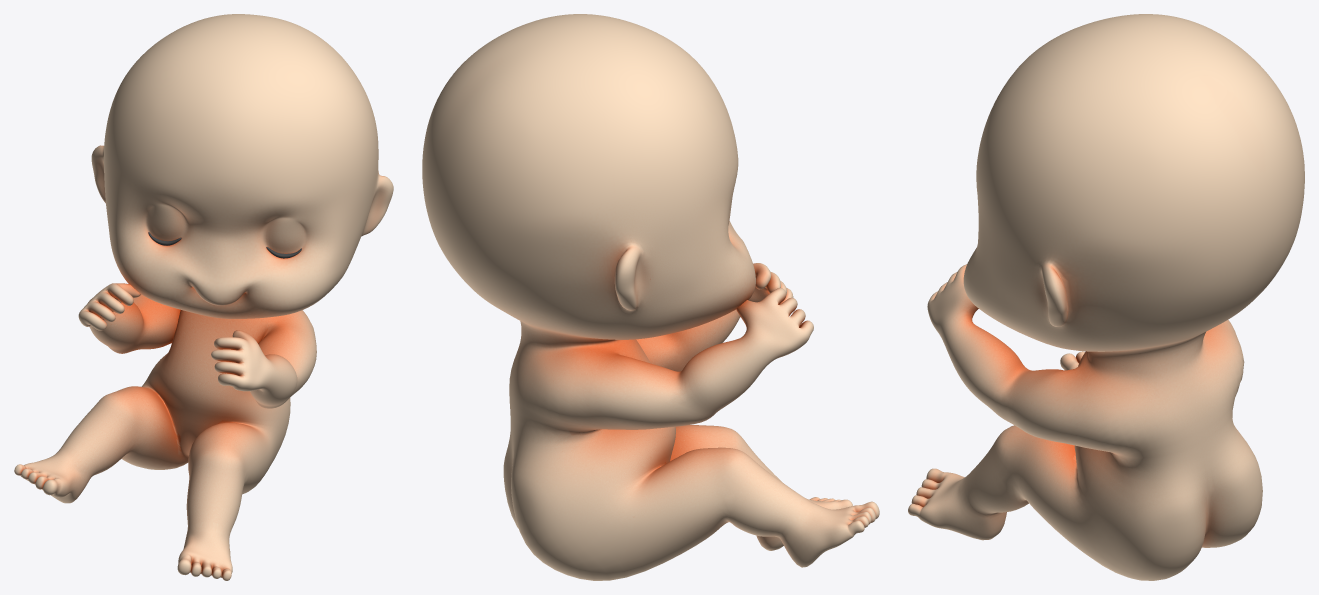
3 views of the same model, side by side, from view 1: azimuth 30°, elevation 25°; view 2: azimuth 150°, elevation 25°; view 3: azimuth 270°, elevation 25° (orthographic). The views are drawn at different scales.
Visible parts, largest first — view 1: Roundcube.003; view 2: Roundcube.003; view 3: Roundcube.003.
Part boxes in pixels (left/top/right/bottom): Roundcube.003: left=14, top=14, right=393, bottom=580; Roundcube.003: left=422, top=14, right=879, bottom=580; Roundcube.003: left=908, top=14, right=1304, bottom=580.
Bounding box in the file's own units: 2.7 × 3.42 × 2.18.
1 material, 1 textured.
